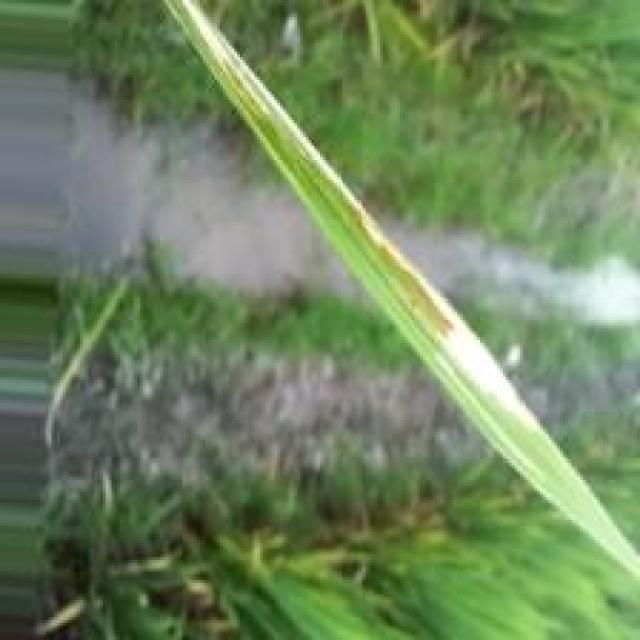Rice_Hispa: (180, 0, 553, 438)
